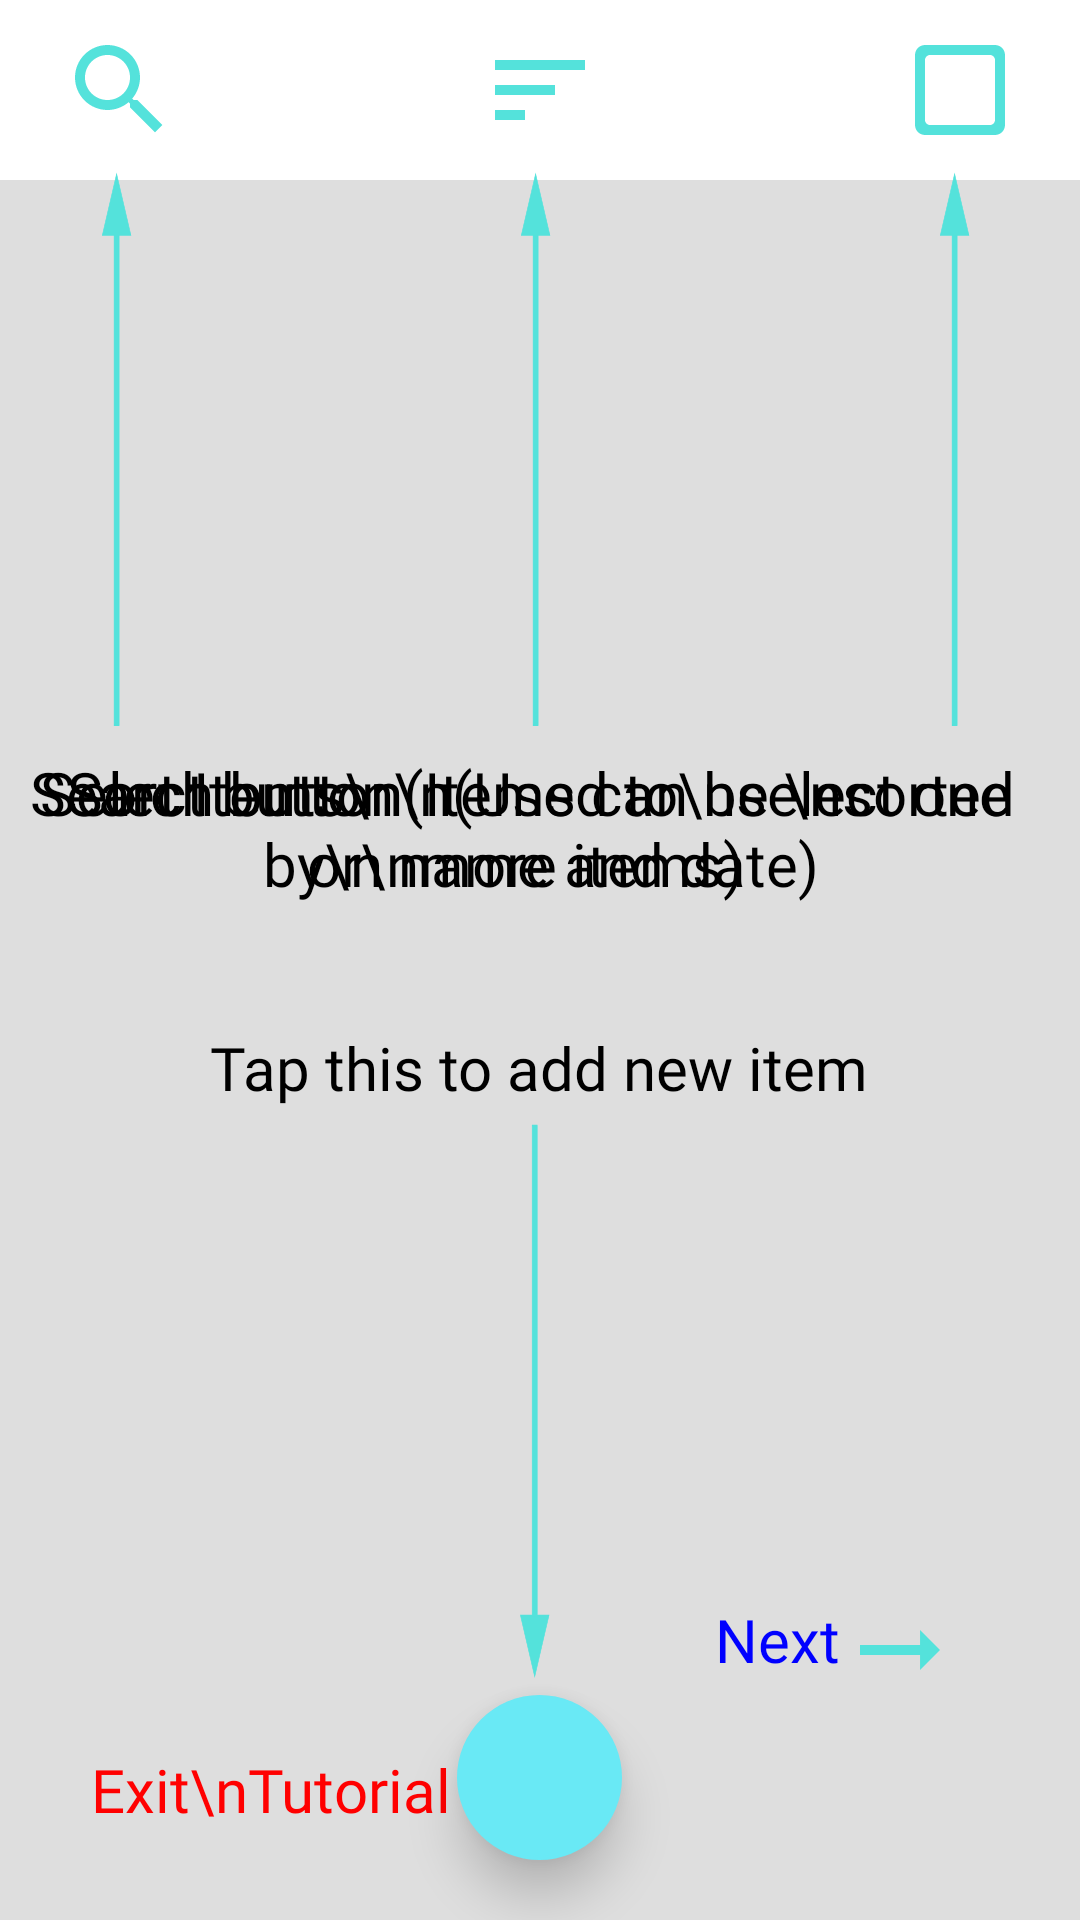

Icon bounding boxes for this 1080x1920 phone screenshot, format bbox=[x1, y1, x2, y2]:
arrow right: bbox=[860, 1630, 940, 1670]
check box blank: bbox=[915, 45, 1005, 135]
search: bbox=[75, 45, 162, 132]
sort: bbox=[495, 60, 585, 120]
